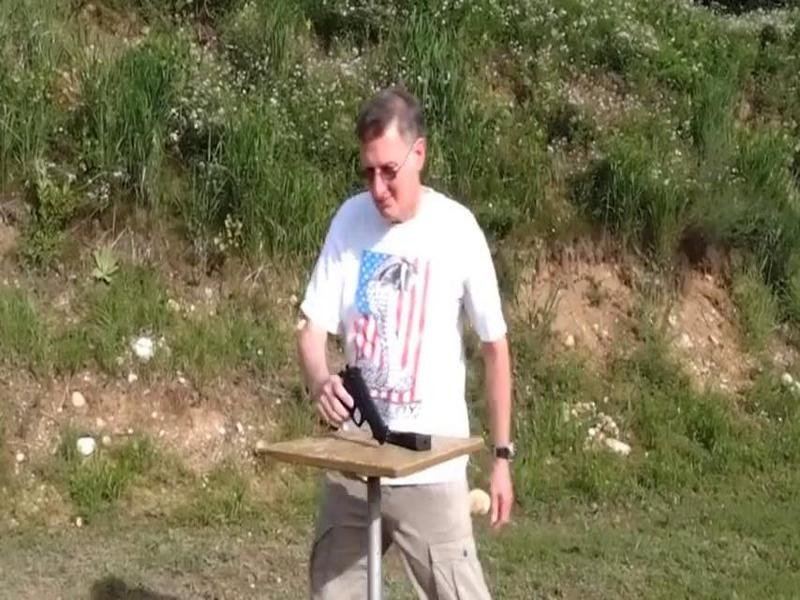Pistola: (307, 344, 426, 457)
